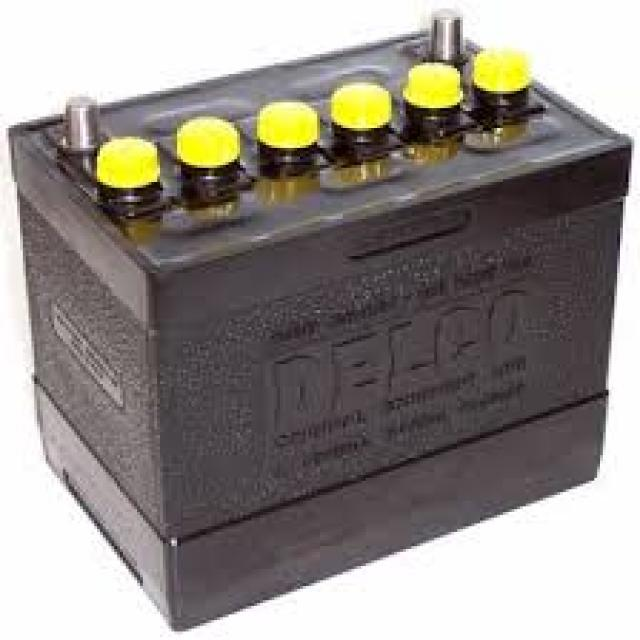non-organic waste: (9, 6, 634, 633)
